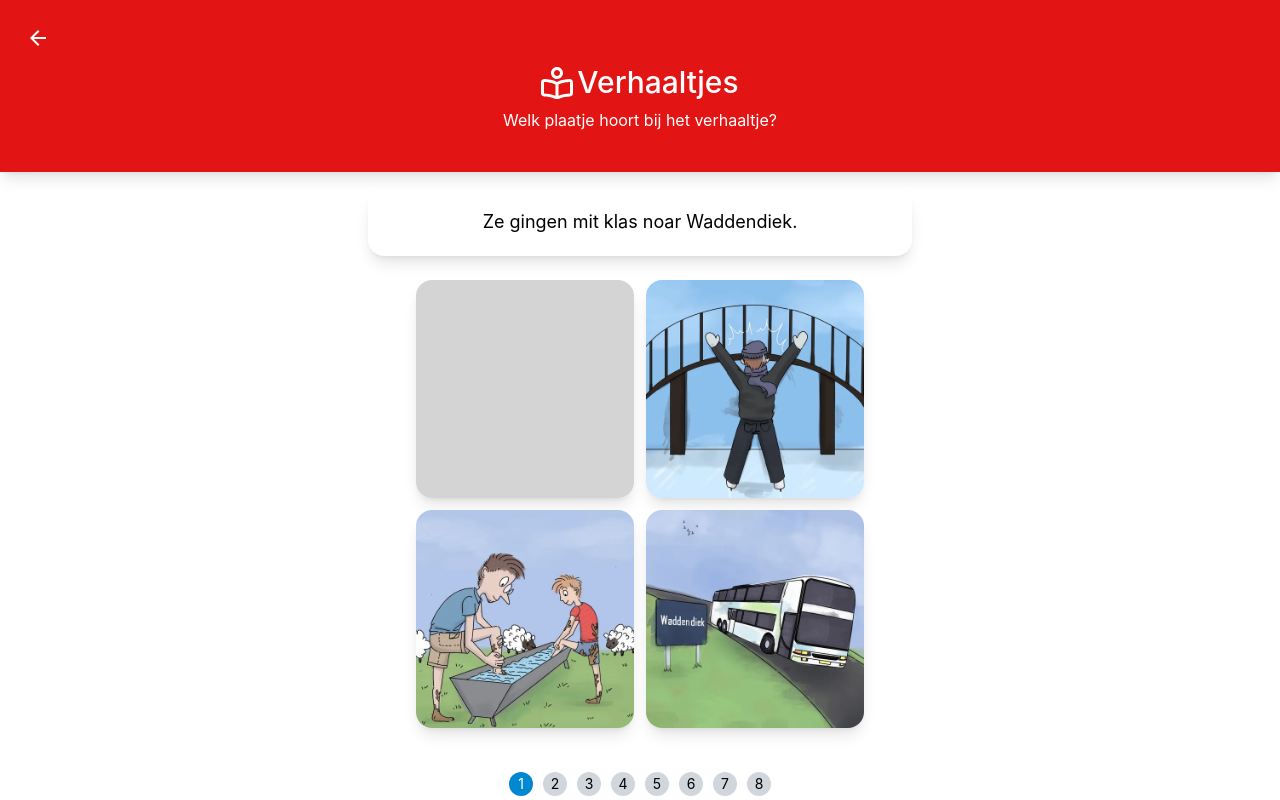
Scenario: picking a picture › shows the animated illustration as the answer to a right one
The width and height of the screenshot is (1280, 800).
Click the button named "Plaatje 4 van 4": (755, 619) [646,510,864,728]
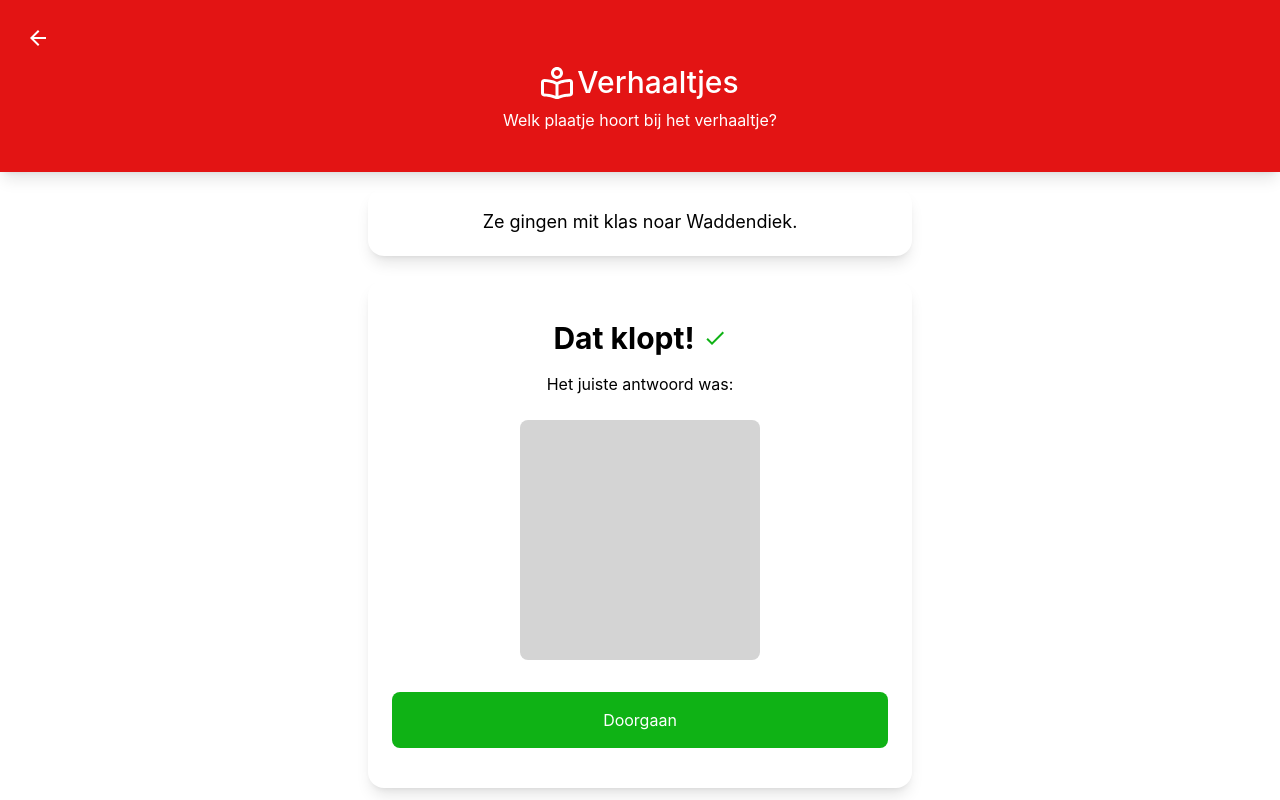
Check: the text "Dat klopt!" is shown, box [553,320,726,356]
Check: the text "Het juiste antwoord was:" is shown, box [547,374,733,394]
